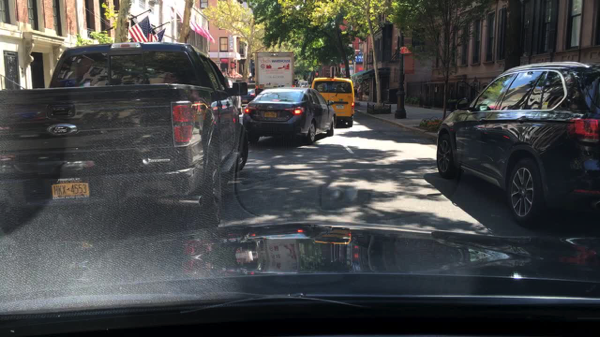car: (434, 60, 600, 226), (242, 87, 338, 142), (312, 76, 355, 125), (239, 82, 255, 103), (297, 78, 312, 89)
truck: (0, 40, 250, 242), (253, 51, 295, 96)
